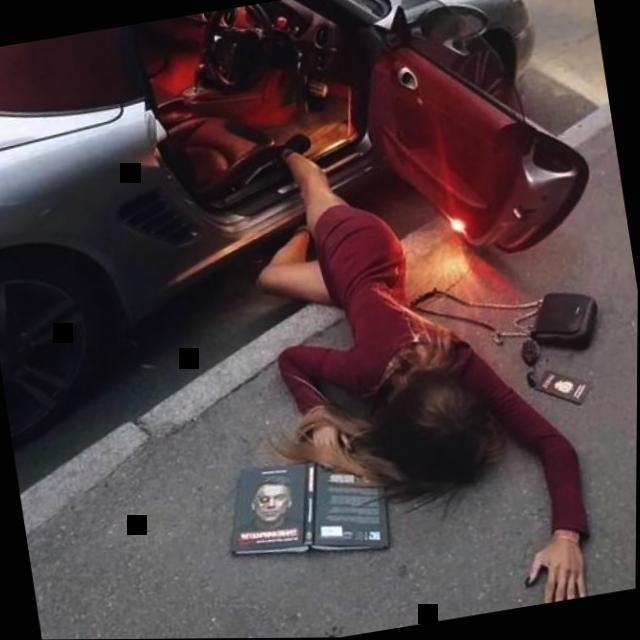Fall-Detected: (216, 87, 618, 639)
